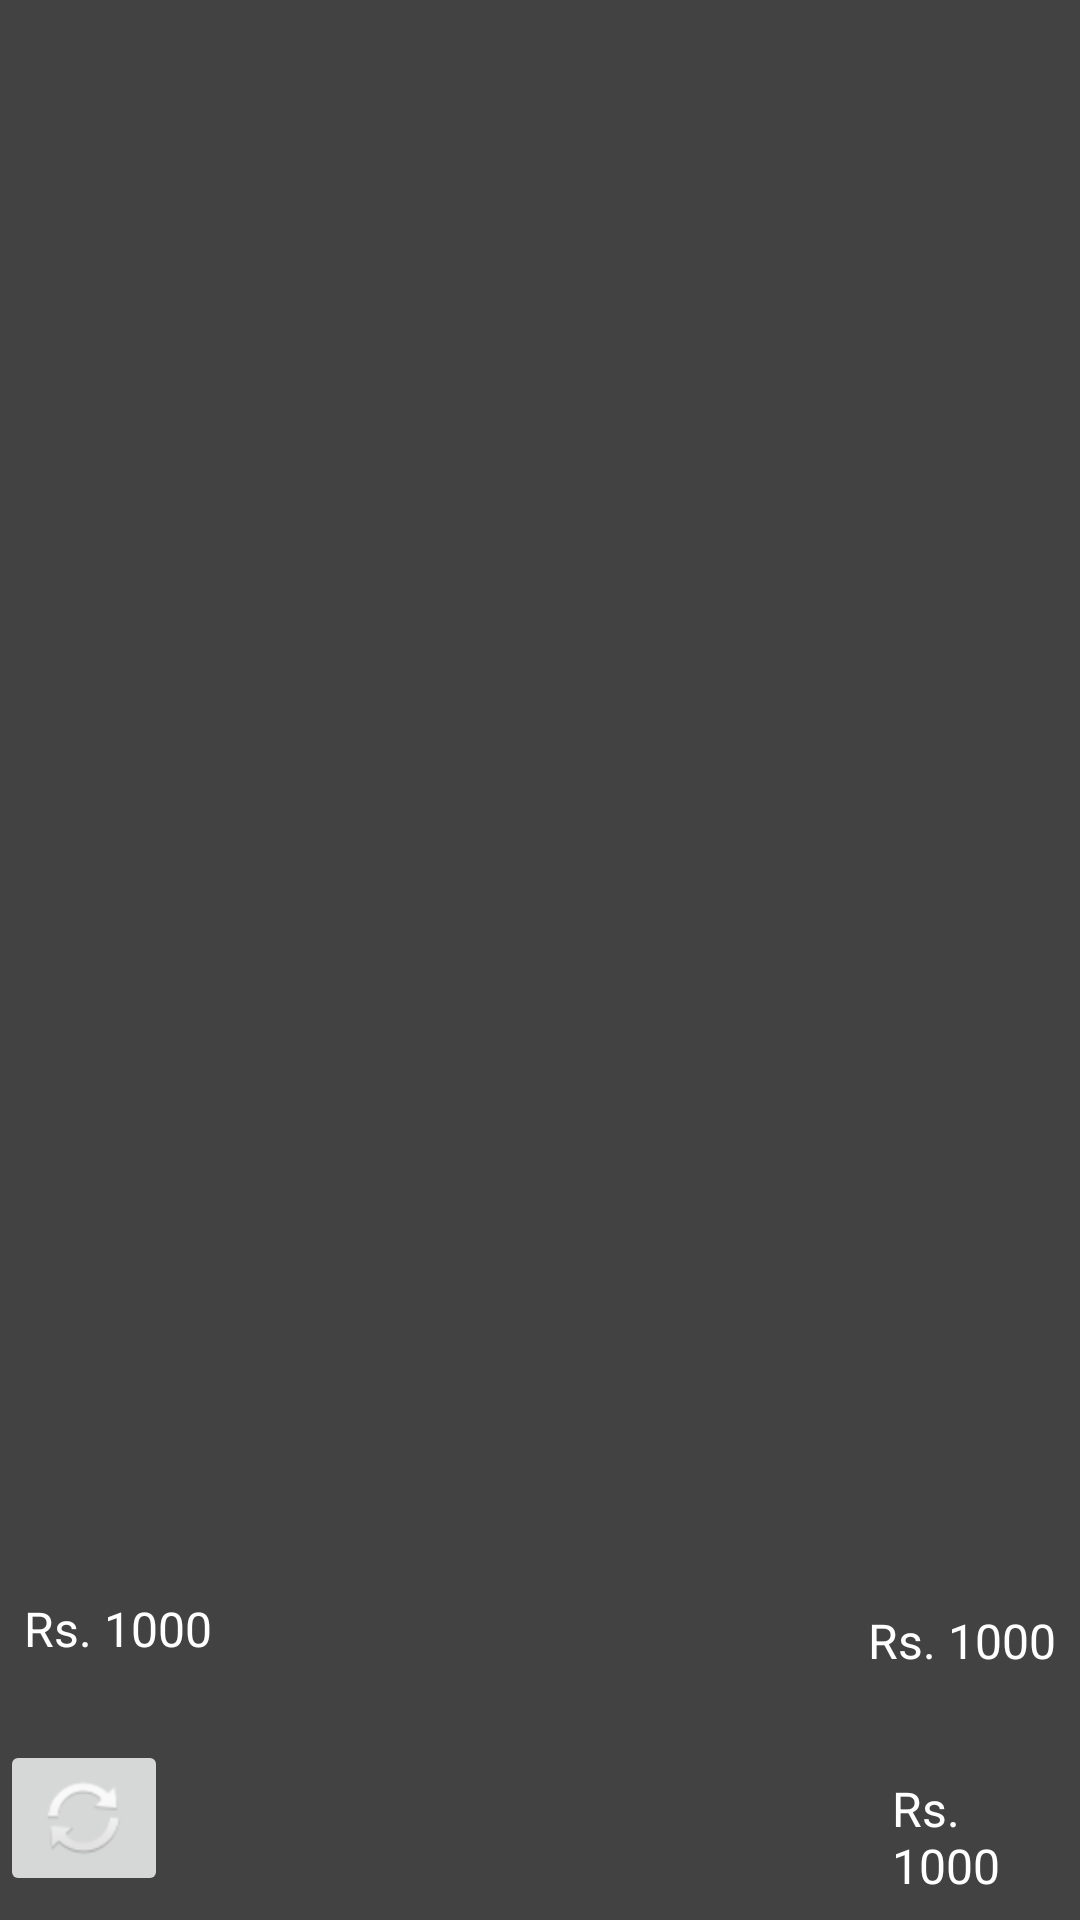

Where icons sit on this 1080x1920 app screen, as {"left": x1, "top": y1, "right": x2, "bottom": y2}:
popup sync: {"left": 12, "top": 1758, "right": 156, "bottom": 1878}
